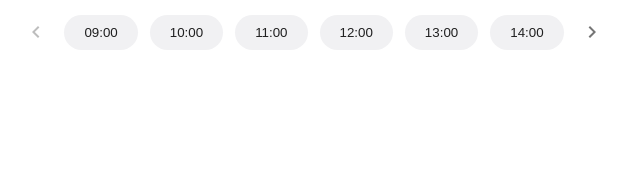
Scenario: HourPicker › pages six hours at a time
This screenshot has width=628, height=172.
Expected: the button "09:00" is shown, [64,14,138,50]
Expected: the button "15:00" is not shown
Click the button named "Próximos horários". click: (592, 32)
box: [572,12,612,52]
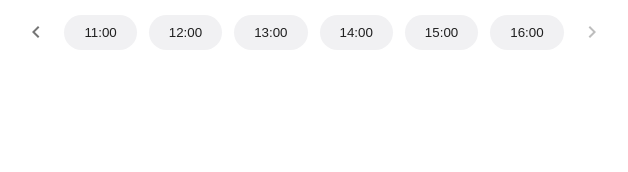
Expected: the button "15:00" is shown, [405,14,478,50]
Expected: the button "09:00" is gone
Expected: the button named "Horários anteriores" is enabled, [16,12,56,52]
